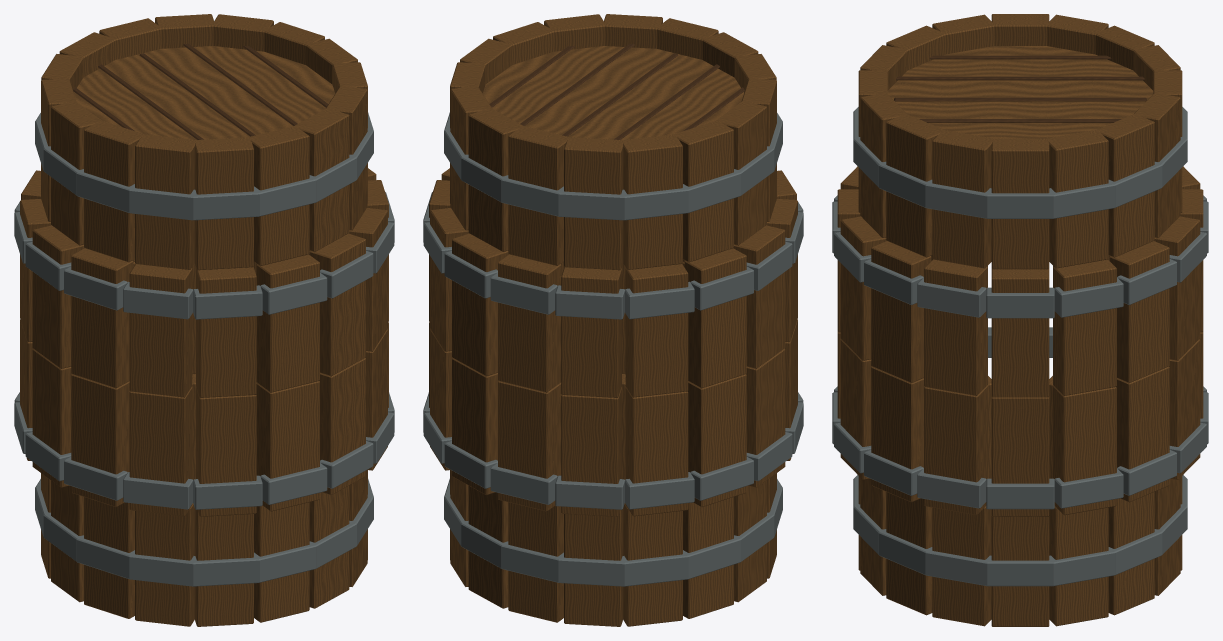
Rendered from barrel.glb.
The picture shows the model from 3 angles, left to right: view 1: azimuth 30°, elevation 25°; view 2: azimuth 150°, elevation 25°; view 3: azimuth 270°, elevation 25°; orthographic projection.
Parts seen in each view (by area): view 1: barrel; view 2: barrel; view 3: barrel.
Boxes of the visible parts, x1,y1,x2,y2 form: barrel: (14, 14, 394, 626); barrel: (423, 14, 803, 626); barrel: (832, 14, 1208, 626).
Size of the model in its own units: 0.715 by 1 by 0.715.
3 materials, 2 textured.
